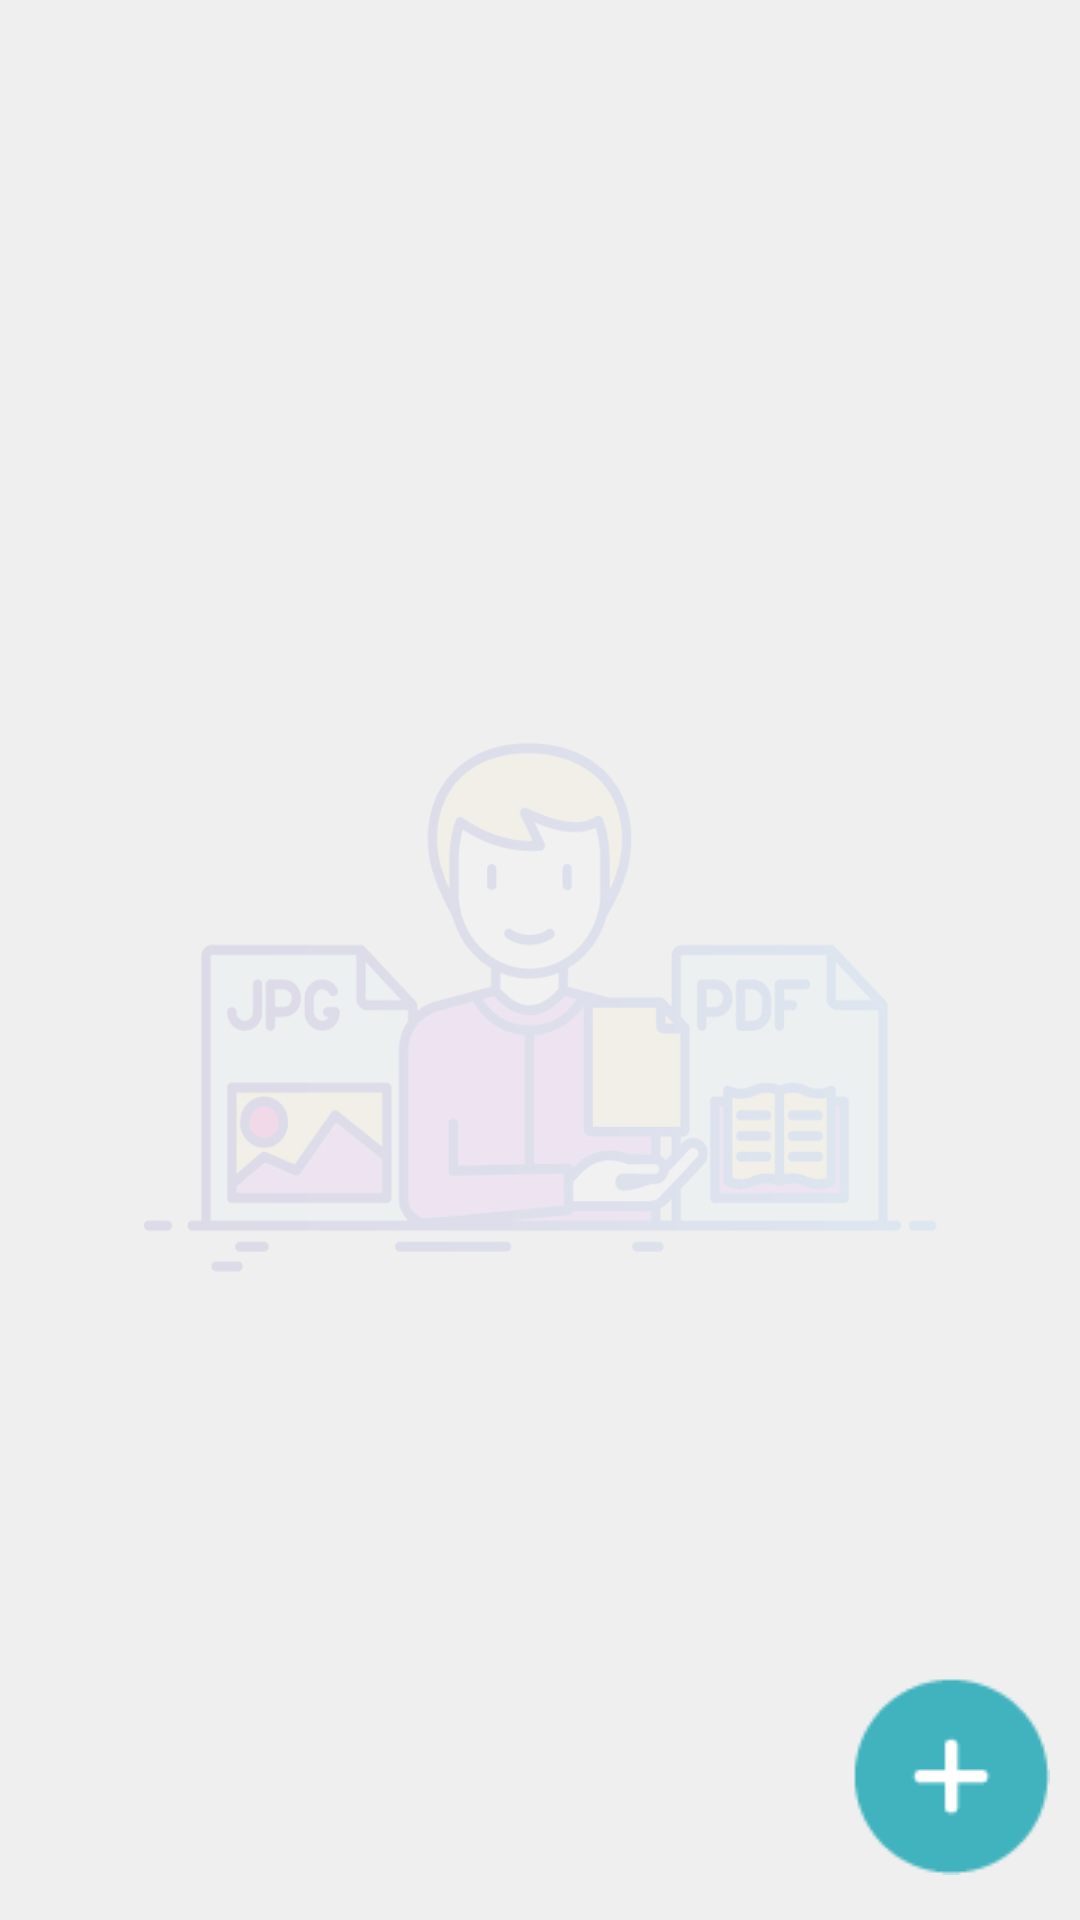

Icons on this 1080w x 1920h Android screen, each with its box as region(x1, y1, x2, y2):
add: region(854, 1679, 1050, 1875)
